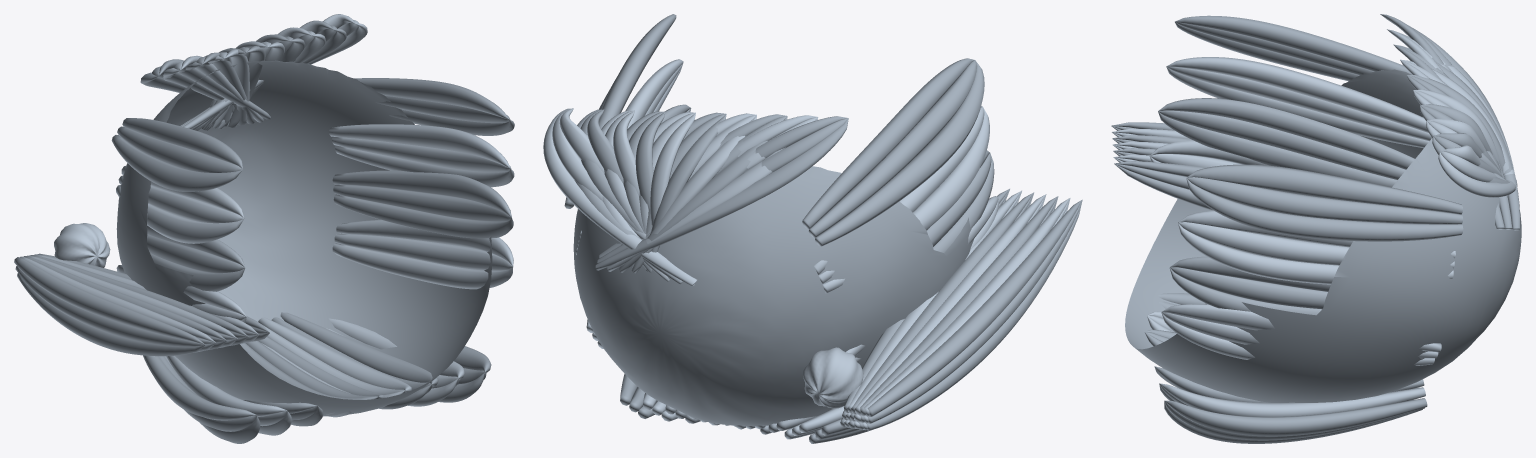
3 renders of one model, left to right at view 1: azimuth 30°, elevation 25°; view 2: azimuth 150°, elevation 25°; view 3: azimuth 270°, elevation 25°, orthographic. The views are drawn at different scales.
Visible parts, largest first — view 1: CrownHair_ref10, SideHair_1_2_Strand2, SideHair_1_3_Strand0, SideHair_1_1_Strand2, SideHair_1_3_Strand1, SideHair_1_2_Strand0, SideHair_Pony_00_Strand0, SideHair_1_2_Strand1, BackHair_06_Strand2, SideHair_1_0_Strand2, SideHair_-1_0_Strand2, SideHair_1_1_Strand1 (+43 smaller); view 2: CrownHair_ref10, SideHair_-1_0_Strand2, SideHair_Pony_00_Strand0, SideHair_-1_0_Strand0, SideHair_-1_0_Strand1, FrontHair_Sweep_00_Strand2, FrontHair_Sweep_09_Strand0, Hair_Tie, SideHair_Pony_00_Strand2, SideHair_-1_1_Strand2, SideHair_Pony_01_Strand0, SideHair_Pony_02_Strand0 (+34 smaller); view 3: CrownHair_ref10, SideHair_1_0_Strand2, SideHair_1_0_Strand0, SideHair_1_0_Strand1, SideHair_-1_1_Strand0, SideHair_-1_2_Strand0, BackHair_08_Strand2, SideHair_-1_2_Strand1, SideHair_-1_0_Strand0, SideHair_-1_2_Strand2, BackHair_07_Strand2, SideHair_-1_1_Strand1 (+36 smaller).
Boxes of the visible parts, x1=… form: CrownHair_ref10: x1=116, y1=60, x2=492, y2=416; SideHair_1_2_Strand2: x1=332, y1=170, x2=511, y2=217; SideHair_1_3_Strand0: x1=332, y1=243, x2=512, y2=289; SideHair_1_1_Strand2: x1=329, y1=124, x2=510, y2=168; SideHair_1_3_Strand1: x1=334, y1=233, x2=512, y2=270; SideHair_1_2_Strand0: x1=333, y1=194, x2=513, y2=238; SideHair_Pony_00_Strand0: x1=14, y1=257, x2=205, y2=344; SideHair_1_2_Strand1: x1=333, y1=184, x2=511, y2=221; BackHair_06_Strand2: x1=280, y1=312, x2=438, y2=387; SideHair_1_0_Strand2: x1=354, y1=78, x2=508, y2=119; SideHair_-1_0_Strand2: x1=111, y1=135, x2=242, y2=191; SideHair_1_1_Strand1: x1=332, y1=136, x2=511, y2=172; CrownHair_ref10: x1=573, y1=166, x2=973, y2=425; SideHair_-1_0_Strand2: x1=815, y1=60, x2=984, y2=246; SideHair_Pony_00_Strand0: x1=867, y1=199, x2=1082, y2=416; SideHair_-1_0_Strand0: x1=802, y1=58, x2=974, y2=229; SideHair_-1_0_Strand1: x1=808, y1=60, x2=976, y2=237; FrontHair_Sweep_00_Strand2: x1=595, y1=118, x2=848, y2=270; FrontHair_Sweep_09_Strand0: x1=543, y1=108, x2=696, y2=286; Hair_Tie: x1=803, y1=347, x2=863, y2=408; SideHair_Pony_00_Strand2: x1=866, y1=200, x2=1082, y2=430; SideHair_-1_1_Strand2: x1=822, y1=107, x2=989, y2=293; SideHair_Pony_01_Strand0: x1=864, y1=198, x2=1070, y2=416; SideHair_Pony_02_Strand0: x1=860, y1=196, x2=1058, y2=415; CrownHair_ref10: x1=1125, y1=69, x2=1521, y2=402; SideHair_1_0_Strand2: x1=1187, y1=164, x2=1462, y2=214; SideHair_1_0_Strand0: x1=1186, y1=178, x2=1463, y2=241; SideHair_1_0_Strand1: x1=1186, y1=177, x2=1462, y2=224; SideHair_-1_1_Strand0: x1=1166, y1=57, x2=1428, y2=132; SideHair_-1_2_Strand0: x1=1158, y1=98, x2=1414, y2=169; BackHair_08_Strand2: x1=1165, y1=398, x2=1427, y2=436; SideHair_-1_2_Strand1: x1=1158, y1=110, x2=1405, y2=179; SideHair_-1_0_Strand0: x1=1175, y1=15, x2=1412, y2=74; SideHair_-1_2_Strand2: x1=1158, y1=111, x2=1397, y2=187; BackHair_07_Strand2: x1=1159, y1=383, x2=1425, y2=416; SideHair_-1_1_Strand1: x1=1166, y1=66, x2=1431, y2=141.
Size of the model in its own units: 0.7325 by 0.6053 by 0.6755.
